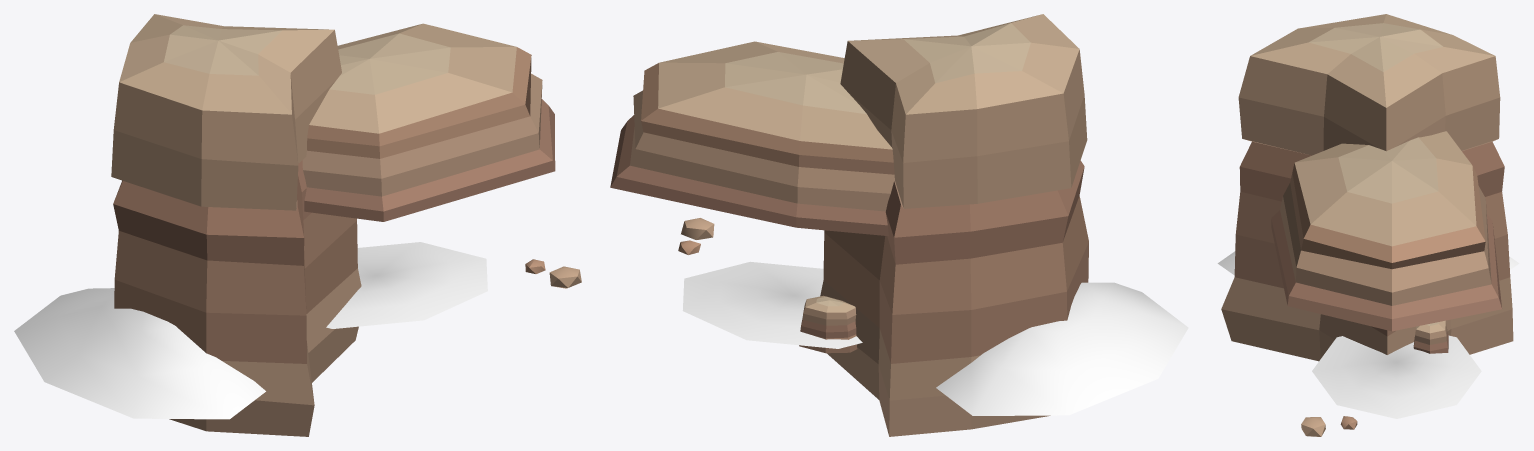
File: roca_cobijo_ligero.glb
The picture shows the model from 3 angles, left to right: view 1: azimuth 30°, elevation 25°; view 2: azimuth 150°, elevation 25°; view 3: azimuth 270°, elevation 25°; orthographic projection. The views are drawn at different scales.
Parts seen in each view (by area): view 1: roca_cobijo, roca_cobijo_techo, roca_cobijo_arena; view 2: roca_cobijo, roca_cobijo_techo, roca_cobijo_arena; view 3: roca_cobijo, roca_cobijo_techo, roca_cobijo_arena.
Part boxes in pixels (bbox=[...]): roca_cobijo: bbox=[111, 14, 581, 436]; roca_cobijo_techo: bbox=[302, 23, 555, 221]; roca_cobijo_arena: bbox=[14, 242, 487, 419]; roca_cobijo: bbox=[678, 14, 1088, 436]; roca_cobijo_techo: bbox=[610, 41, 894, 236]; roca_cobijo_arena: bbox=[682, 261, 1188, 415]; roca_cobijo: bbox=[1221, 14, 1513, 436]; roca_cobijo_techo: bbox=[1271, 131, 1501, 331]; roca_cobijo_arena: bbox=[1217, 251, 1519, 418].
Bounding box in the file's own units: 11.44 × 7.04 × 6.4.
